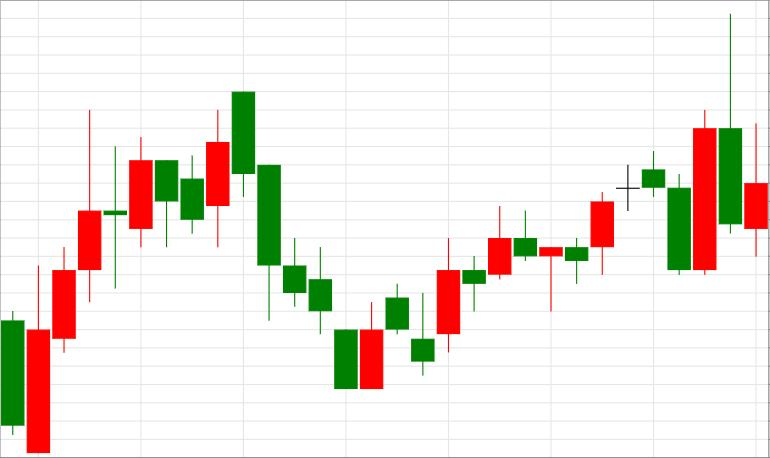bullish_engulfing_rise: (232, 92, 383, 390)
